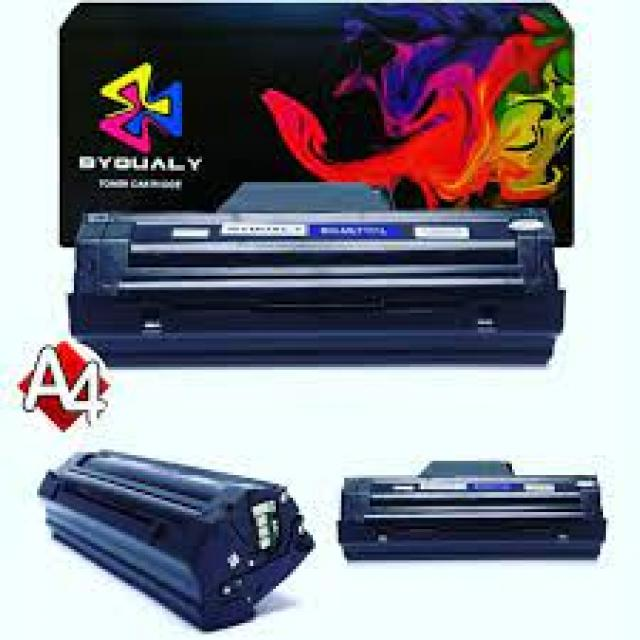printer: (67, 215, 564, 372), (36, 444, 317, 636), (332, 458, 610, 567)
